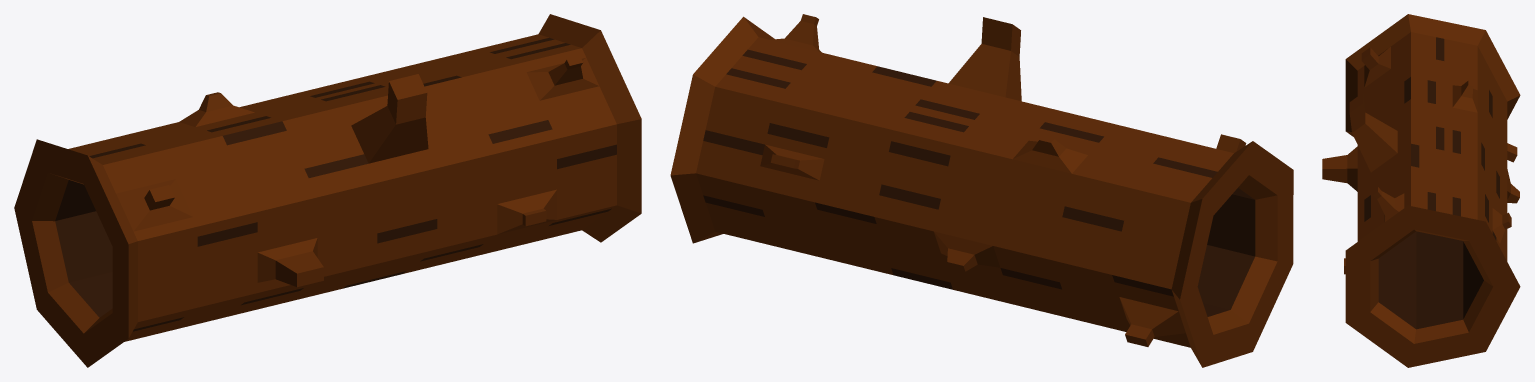
The model's file is FallenTree.fbx.
3 views of the same model, side by side, from view 1: azimuth 30°, elevation 25°; view 2: azimuth 150°, elevation 25°; view 3: azimuth 270°, elevation 25° (orthographic). The views are drawn at different scales.
Parts seen in each view (by area): view 1: Cylinder.027; view 2: Cylinder.027; view 3: Cylinder.027.
Part boxes in pixels (x1,y1,x2,y2): Cylinder.027: [14, 14, 641, 367]; Cylinder.027: [670, 14, 1293, 367]; Cylinder.027: [1322, 14, 1520, 367].
Bounding box in the file's own units: 303 × 137 × 132.
